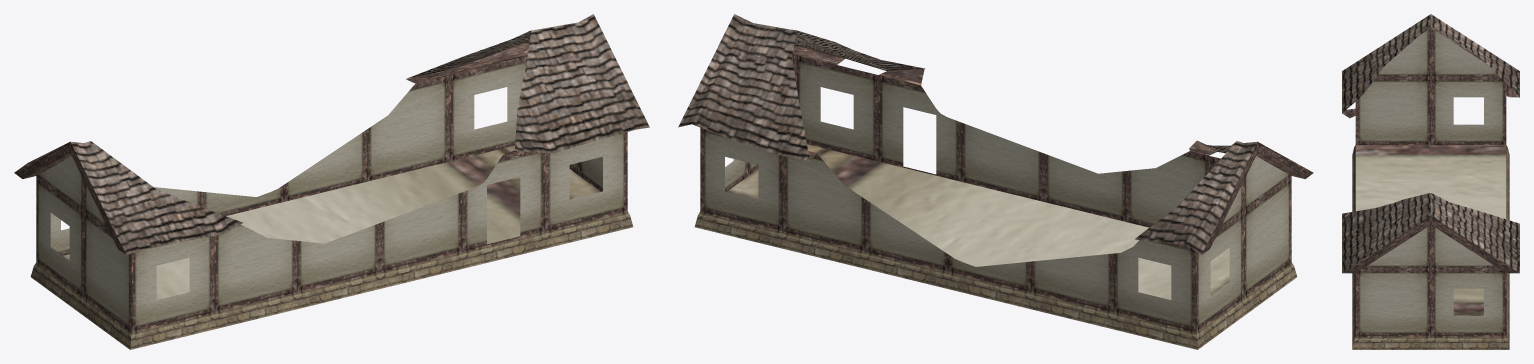
File: s44_b_house_4_3_destroyed_1.dae
The picture shows the model from 3 angles, left to right: view 1: azimuth 30°, elevation 25°; view 2: azimuth 150°, elevation 25°; view 3: azimuth 270°, elevation 25°; orthographic projection. The views are drawn at different scales.
Visible parts, largest first — view 1: s44_b_house_1_3; view 2: s44_b_house_1_3; view 3: s44_b_house_1_3.
Part boxes in pixels (bbox=[...]): s44_b_house_1_3: bbox=[14, 14, 649, 349]; s44_b_house_1_3: bbox=[678, 14, 1313, 349]; s44_b_house_1_3: bbox=[1342, 14, 1519, 349].
Size of the model in its own units: 152 by 56.55 by 48.36.
Materials: 1 (1 with a texture image).
